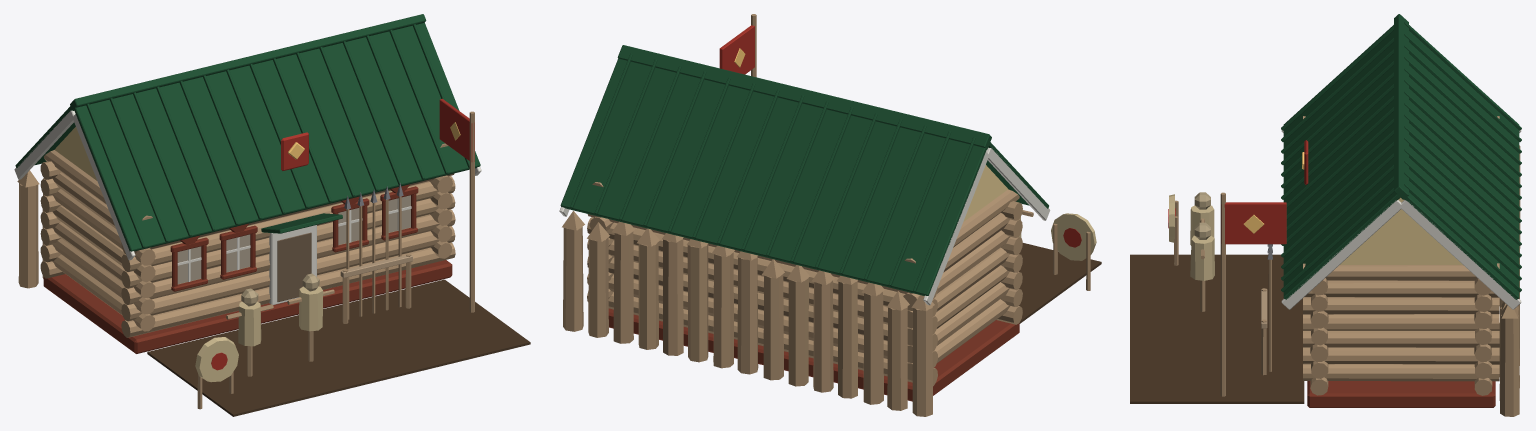
File: bld_kazarma_e2.glb
3 renders of one model, left to right at view 1: azimuth 30°, elevation 25°; view 2: azimuth 150°, elevation 25°; view 3: azimuth 270°, elevation 25°, orthographic. The views are drawn at different scales.
Parts seen in each view (by area): view 1: kazarma; view 2: kazarma; view 3: kazarma.
Part boxes in pixels (x1=…): kazarma: x1=14, y1=14, x2=530, y2=416; kazarma: x1=559, y1=14, x2=1101, y2=416; kazarma: x1=1130, y1=14, x2=1521, y2=416.
Bounding box in the file's own units: 2 × 1.27 × 1.91.
